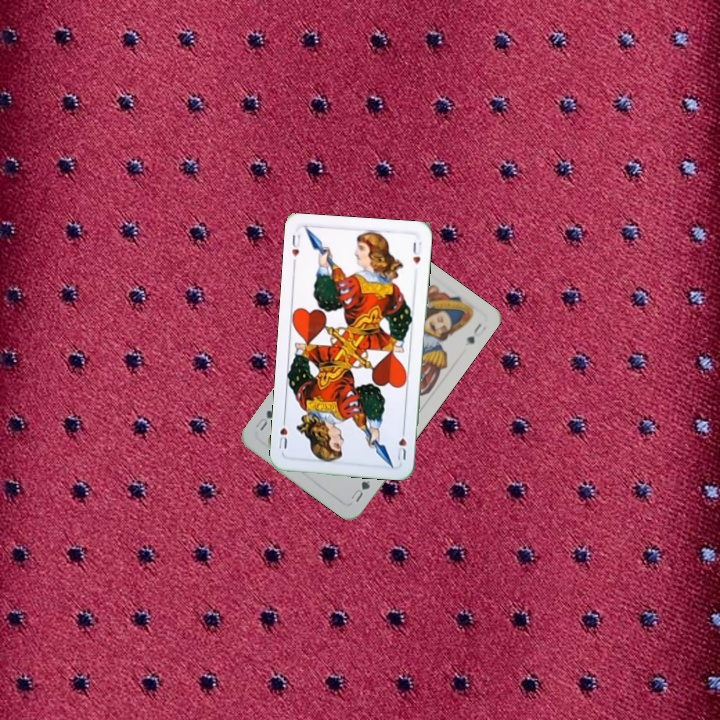GU: (347, 476, 373, 505)
HU: (393, 424, 409, 463), (287, 231, 303, 259)
